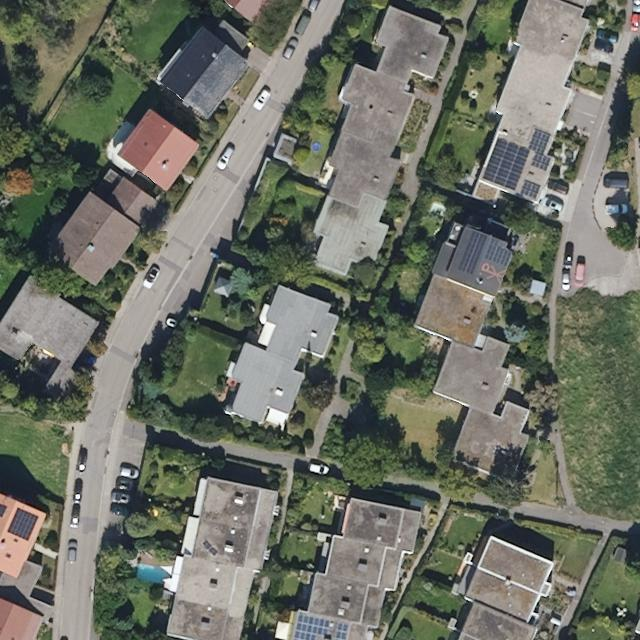PV: (481, 135, 531, 193), (291, 610, 351, 639), (456, 228, 489, 274), (4, 506, 41, 545), (526, 126, 554, 174), (483, 237, 514, 270), (519, 179, 543, 202), (1, 501, 9, 520)
